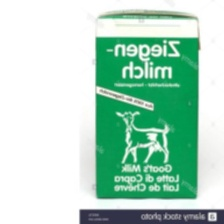carton: (89, 6, 202, 201)
